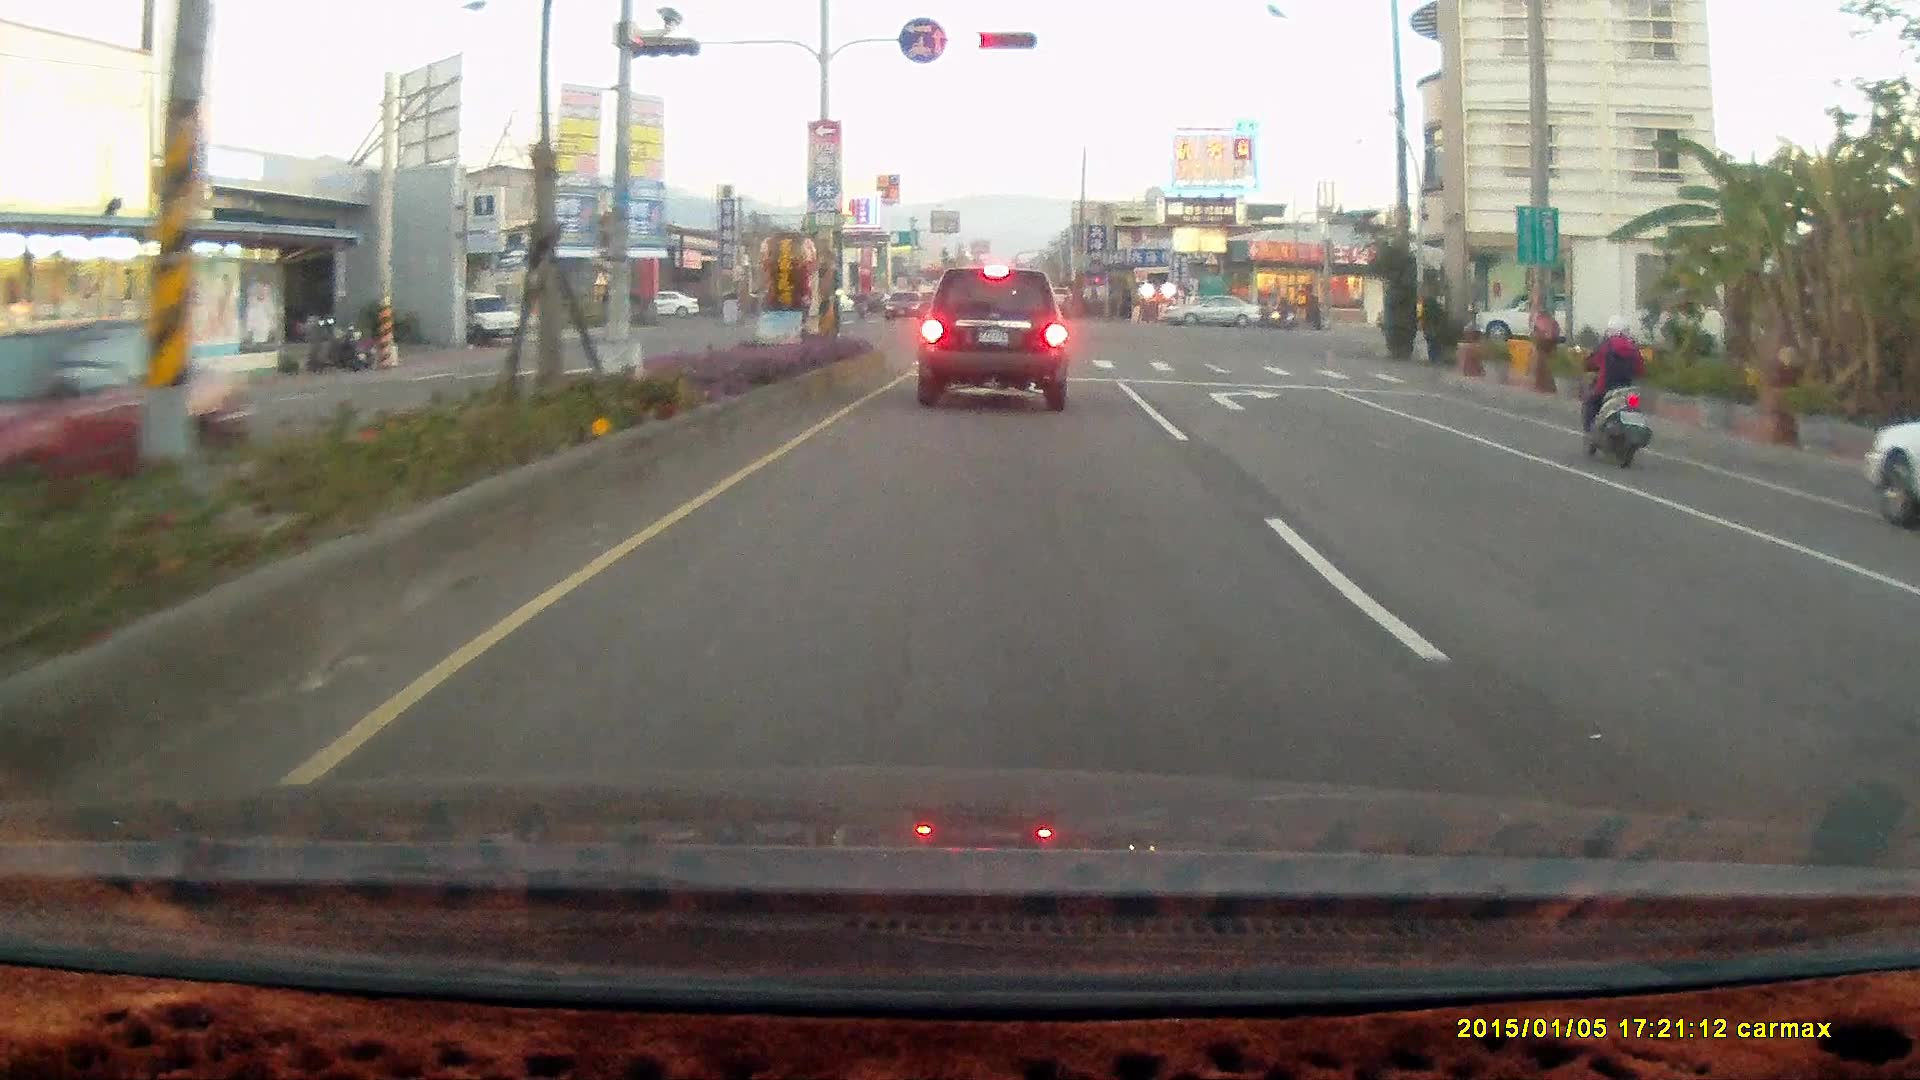rider: (1570, 306, 1652, 464), (1266, 292, 1298, 327)
vehicle: (916, 266, 1068, 411), (1863, 366, 1920, 533), (1896, 493, 1920, 836), (1471, 286, 1594, 346), (1862, 415, 1919, 532), (1883, 528, 1920, 690), (453, 289, 529, 347), (1157, 293, 1265, 332), (1158, 292, 1264, 328)
